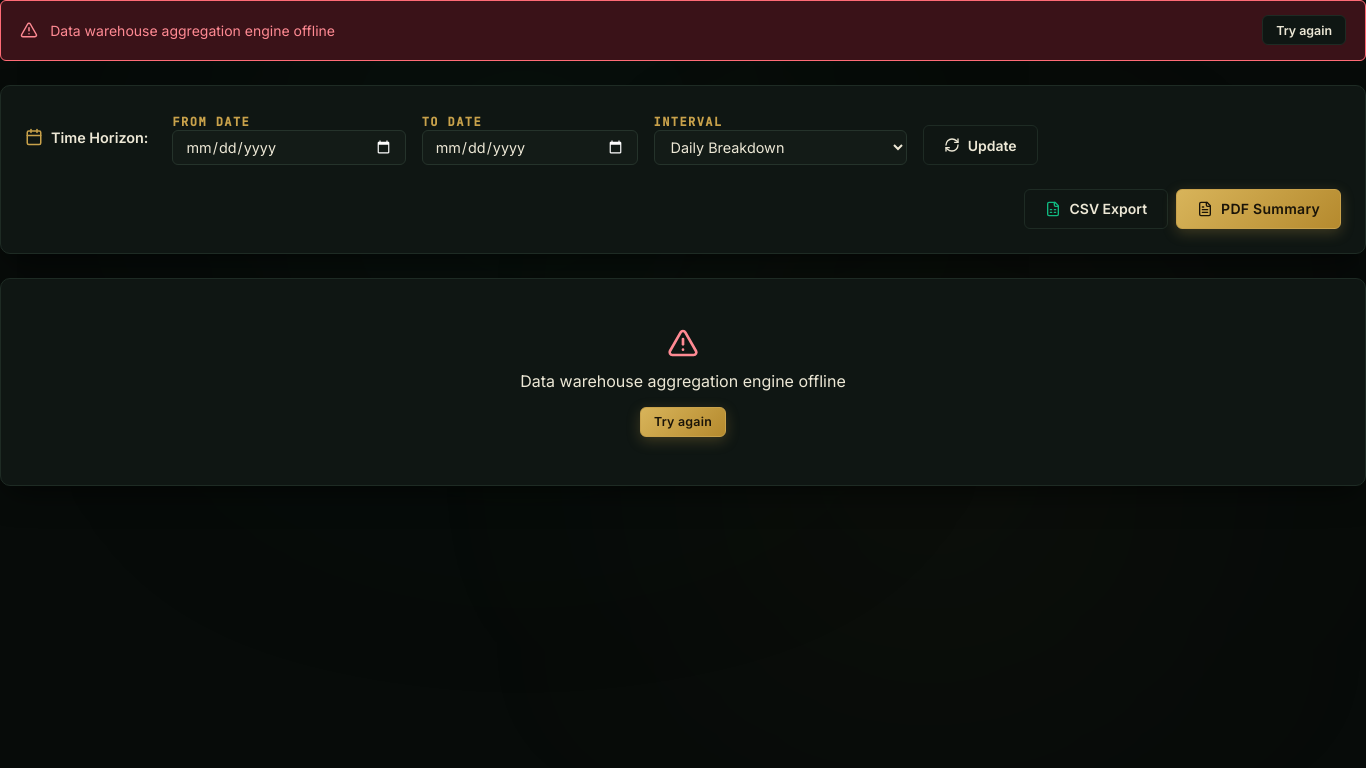
ReportsPage › shows error message and Try again button when fetch fails and NO fake data or KPI numbers appear
The width and height of the screenshot is (1366, 768).
Click the 1st button "Try again" at [1304, 30], box [1262, 15, 1346, 45]
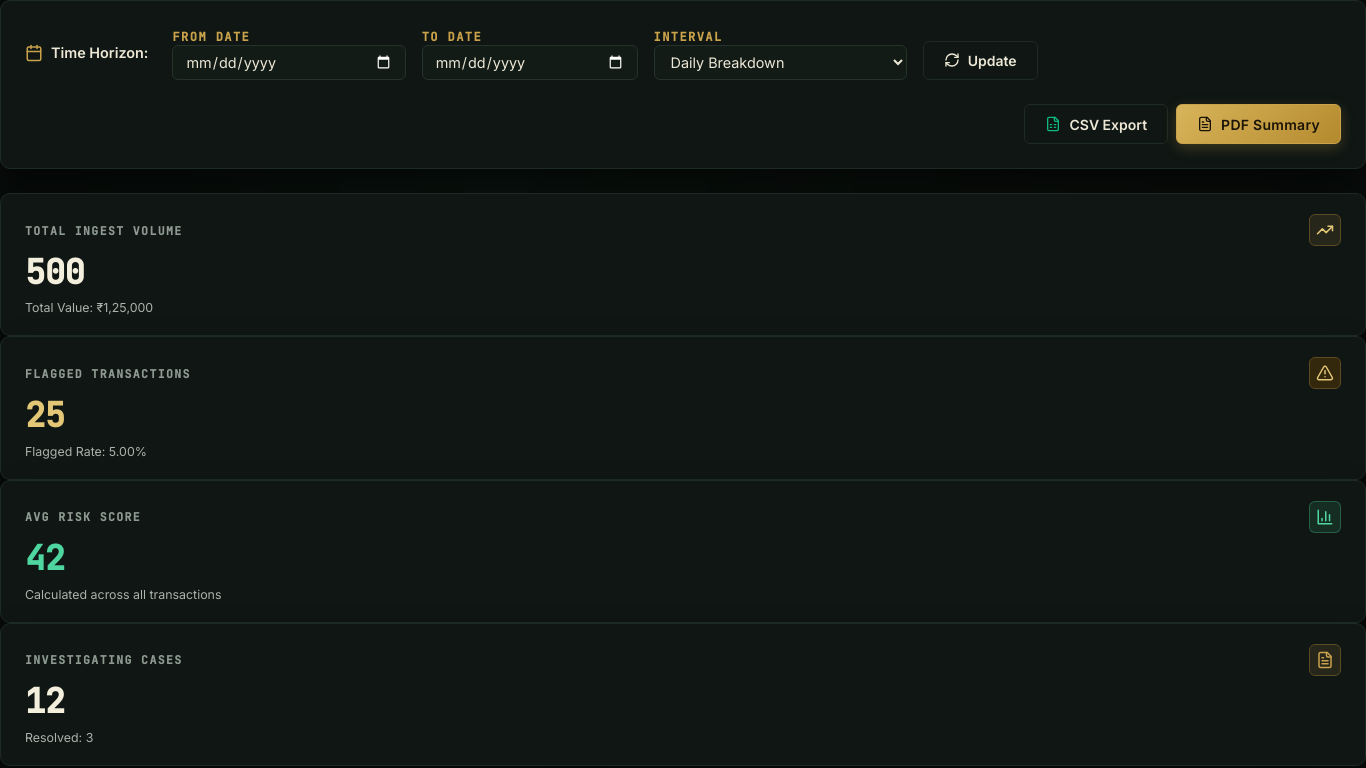
Now the text "500" is shown, box [25, 248, 84, 294]
Now the text "42" is shown, box [25, 535, 64, 580]
